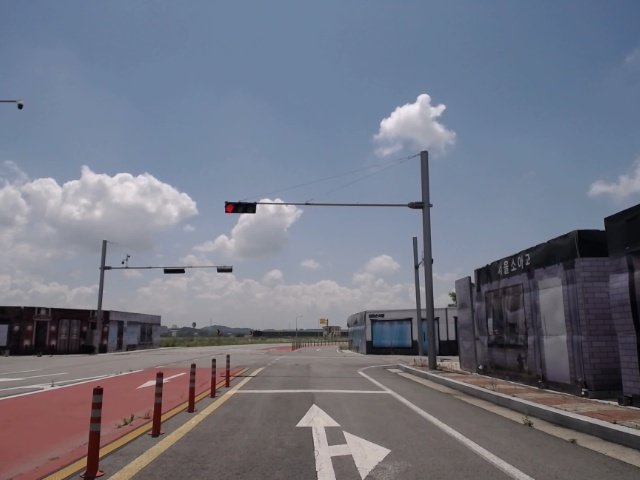red_3: (223, 200, 260, 215)
